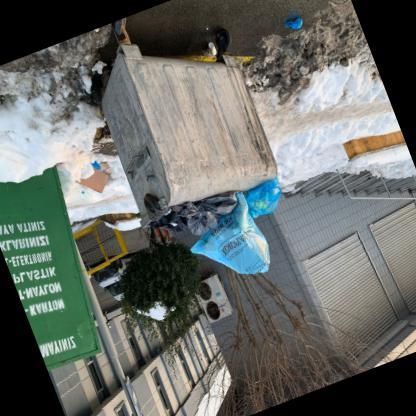Garbage: (155, 174, 303, 296), (184, 195, 278, 297), (237, 178, 291, 223), (280, 7, 307, 35), (88, 156, 104, 174), (78, 183, 90, 196)
